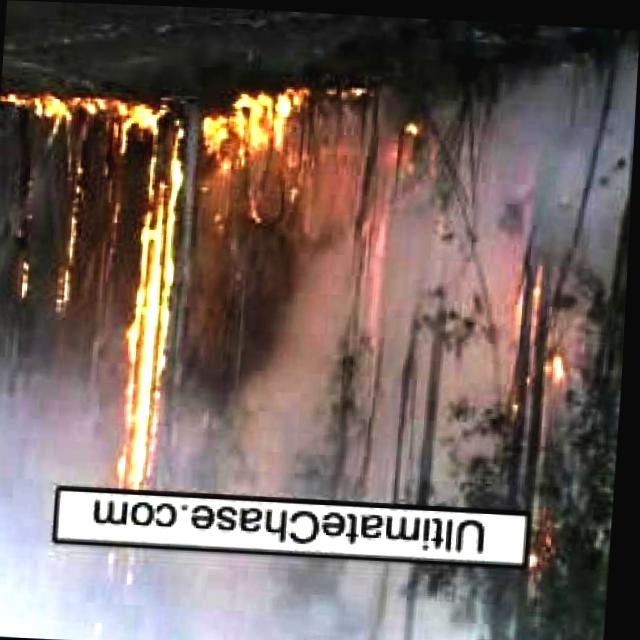helmet: (0, 78, 314, 158), (115, 157, 173, 492), (509, 248, 578, 414), (50, 219, 91, 318), (526, 519, 559, 595), (10, 249, 43, 294)
no_helmet: (162, 189, 516, 505), (320, 15, 640, 245), (0, 535, 474, 640)
